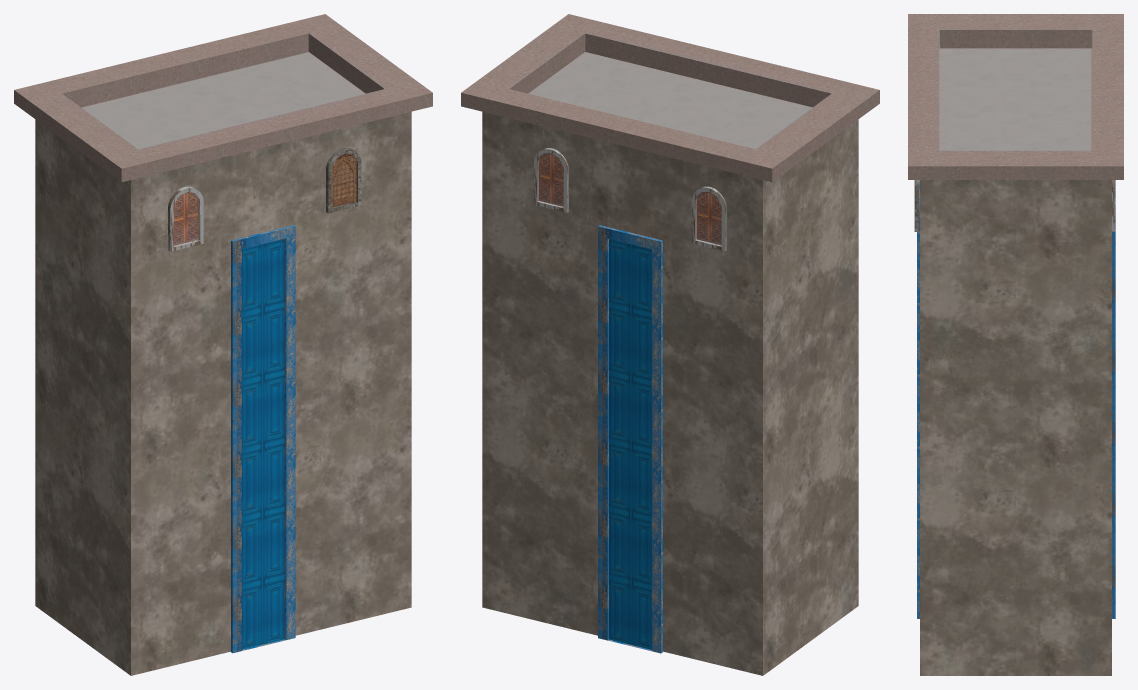
Rendered from medina_cityscape_daar.gltf.
3 renders of one model, left to right at view 1: azimuth 30°, elevation 25°; view 2: azimuth 150°, elevation 25°; view 3: azimuth 270°, elevation 25°, orthographic.
Parts seen in each view (by area): view 1: medina_cityscape_daar; view 2: medina_cityscape_daar; view 3: medina_cityscape_daar.
Part boxes in pixels (x1,y1,x2,y2): medina_cityscape_daar: [14, 14, 432, 675]; medina_cityscape_daar: [461, 14, 879, 675]; medina_cityscape_daar: [908, 14, 1123, 675].
Size of the model in its own units: 5.29 by 8.39 by 3.17.
Materials: 4 (4 with a texture image).
